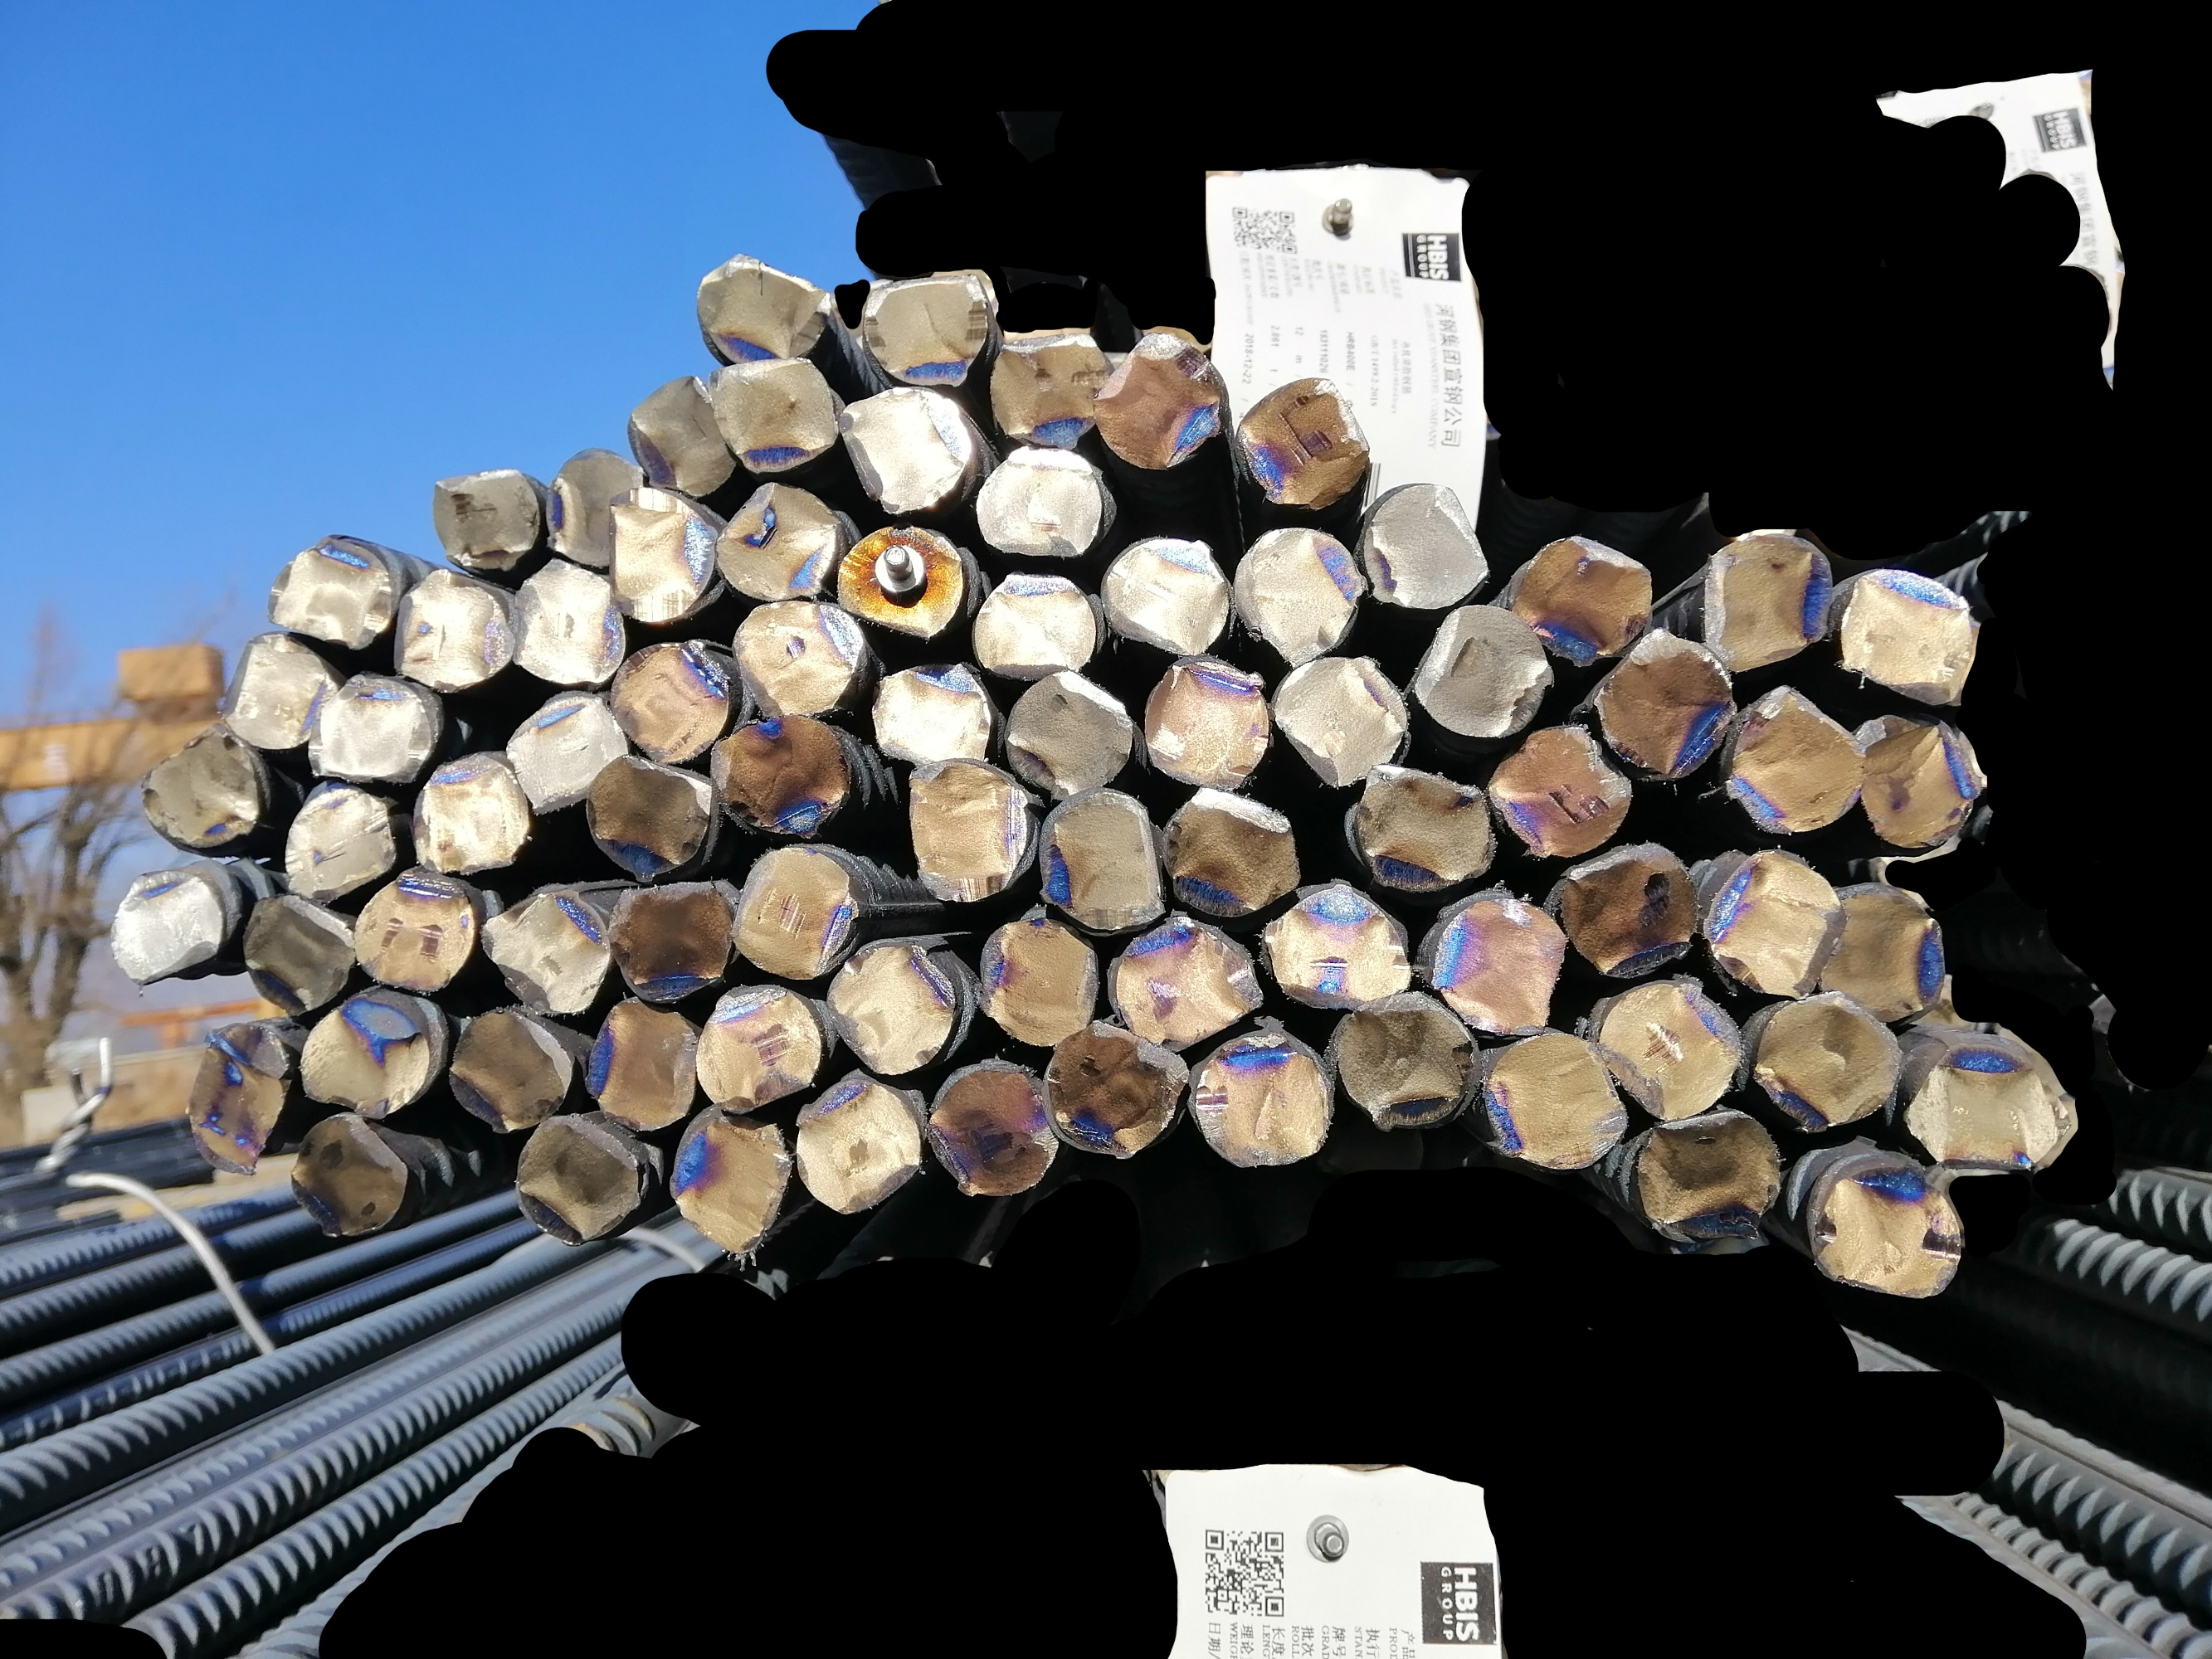rebar: (1478, 1035, 1635, 1175), (1485, 718, 1637, 861), (1037, 1021, 1191, 1162), (1815, 1154, 1964, 1297), (1909, 1039, 2066, 1175), (1837, 563, 1980, 711), (1750, 990, 1898, 1133), (840, 383, 981, 533), (1703, 526, 1844, 674), (1593, 633, 1736, 777), (1600, 978, 1740, 1126), (1705, 847, 1837, 1002), (1724, 685, 1865, 829), (1408, 605, 1557, 742), (1632, 1107, 1780, 1244), (1260, 880, 1415, 1011), (1820, 875, 1951, 1030), (661, 1098, 790, 1255), (1518, 528, 1661, 669), (1429, 897, 1569, 1040), (702, 713, 858, 840), (176, 1018, 296, 1182), (791, 1077, 929, 1220), (1553, 840, 1694, 978), (1333, 1004, 1480, 1136), (1117, 915, 1264, 1047), (899, 760, 1032, 906), (504, 1108, 645, 1244), (1093, 324, 1222, 472), (1238, 373, 1372, 514), (1039, 791, 1171, 934), (1236, 523, 1365, 669), (1354, 753, 1490, 890), (1145, 657, 1279, 796), (692, 978, 824, 1119), (1363, 477, 1494, 620), (1189, 1039, 1330, 1169), (1161, 788, 1304, 917), (706, 349, 842, 483), (289, 995, 432, 1122), (136, 727, 275, 856), (502, 690, 636, 819), (1858, 713, 1984, 850), (284, 1105, 408, 1244), (1276, 657, 1407, 788), (973, 918, 1105, 1047), (504, 552, 626, 692), (934, 1060, 1053, 1202), (476, 890, 607, 1019), (600, 880, 736, 1004), (730, 598, 866, 721), (830, 943, 955, 1075), (734, 849, 859, 981), (711, 477, 840, 603), (1006, 673, 1138, 795), (586, 760, 720, 880), (856, 268, 995, 383), (694, 254, 831, 369), (605, 638, 730, 763), (838, 516, 964, 641), (992, 324, 1116, 451), (974, 434, 1098, 561), (607, 481, 715, 626), (1102, 535, 1229, 657), (586, 992, 695, 1133), (451, 1004, 570, 1134), (305, 662, 432, 782), (399, 763, 535, 873), (392, 568, 514, 688), (267, 538, 397, 648), (110, 866, 228, 986), (352, 875, 471, 993), (424, 462, 546, 577), (974, 565, 1098, 678), (865, 659, 995, 765), (214, 633, 333, 749), (242, 892, 357, 1012), (628, 376, 734, 502), (279, 782, 392, 899), (549, 446, 652, 570)
